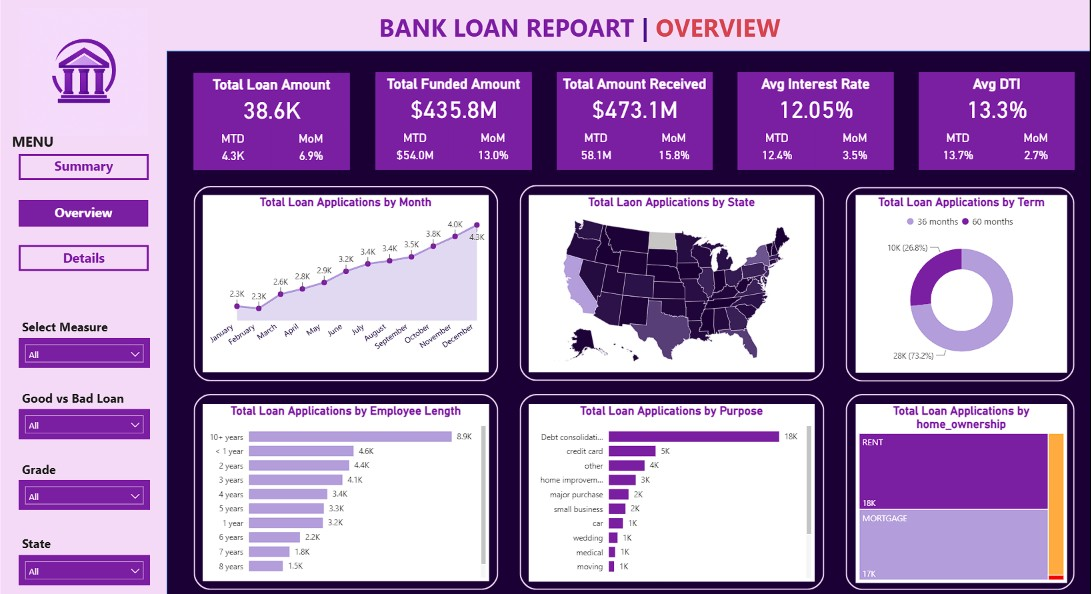

What the dashboard file says about the page in this screenshot:
{"tool":"powerbi","page":{"name":"Overview","canvas":[1680,920],"ordinal":1},"visuals":[{"type":"shape","box":[258.6,81.4,1422,837],"z":0,"group":"g26"},{"type":"shape","box":[1137,113.2,240,151],"z":0,"group":"g17"},{"type":"shape","box":[1415,113.2,240,151],"z":0,"group":"g20"},{"type":"group","id":"g1","title":"Funded Amount","box":[580,113.5,240,151],"z":0,"group":"g4"},{"type":"shape","box":[580,113.5,240,151],"z":0,"group":"g1"},{"type":"card","title":"Total Funded Amount","fields":{"Values":["financial_loan_bank.Total Funded Amount"]},"box":[580.1,113.5,240,75.5],"z":0,"group":"g5"},{"type":"shape","box":[858.8,113.5,240,151],"z":0,"group":"g6"},{"type":"card","title":"Total Amount Received","fields":{"Values":["financial_loan_bank.Total Amount Received"]},"box":[858.8,113.5,239.9,75.8],"z":0,"group":"g7"},{"type":"card","title":"Avg Interest Rate","fields":{"Values":["financial_loan_bank.Avg Interest Rate"]},"box":[1137.4,113.6,240,75.8],"z":0,"group":"g8"},{"type":"card","title":"Avg DTI","fields":{"Values":["financial_loan_bank.Avg DTI"]},"box":[1415,113.9,240,75.5],"z":0,"group":"g9"},{"type":"shape","box":[300,114.7,240,149.2],"z":0,"group":"g14"},{"type":"card","title":"Total Loan Amount","fields":{"Values":["financial_loan_bank.Total Loan Applications"]},"box":[300,114.7,240,75],"z":0,"group":"g10"},{"type":"textbox","title":"Menu","box":[15,200,103,41],"z":0,"group":"g24"},{"type":"group","id":"g2","title":"All Charts","box":[300,286.5,1355,623.7],"z":0,"group":"g25"},{"type":"shape","title":"Background","box":[801.9,286.5,468.6,301.4],"z":0,"group":"g12"},{"type":"group","id":"g3","title":"Line Chart of Total Loan Applications by Month","box":[300,287.5,468.4,300.4],"z":0,"group":"g2"},{"type":"shape","title":"Background","box":[300,287.5,468.4,300.4],"z":0,"group":"g3"},{"type":"shape","title":"Background","box":[1302.8,288.8,352,299.4],"z":0,"group":"g23"},{"type":"actionButton","title":"Details Button","box":[30,380,200,40],"z":0,"group":"g11"},{"type":"textbox","box":[30,492,156.7,36.7],"z":0,"group":"g21"},{"type":"shape","title":"Background","box":[300.2,608.5,468.6,301.4],"z":0,"group":"g18"},{"type":"shape","title":"Background","box":[801.9,608.5,468.6,301.4],"z":0,"group":"g15"},{"type":"shape","title":"Background","box":[1302.8,608.6,352.2,301.6],"z":0,"group":"g22"},{"type":"slicer","fields":{"Values":["financial_loan_bank.Good vs Bad Loan"]},"box":[30,631.2,201.7,46.8],"z":0,"group":"g13"},{"type":"textbox","box":[30,712,70,34.1],"z":0,"group":"g16"},{"type":"textbox","box":[30,826.7,56.7,36.7],"z":0,"group":"g19"},{"type":"group","id":"g4","title":"5 KPI","box":[300,113.2,1355,151],"z":1000,"group":"g25"},{"type":"group","id":"g5","title":"Group 4","box":[580,113.5,240.1,151.5],"z":1000,"group":"g1"},{"type":"group","id":"g6","title":"Amount Received","box":[858.8,113.5,240,151],"z":1000,"group":"g4"},{"type":"group","id":"g7","title":"Group 7","box":[858.8,113.5,240,151],"z":1000,"group":"g6"},{"type":"group","id":"g8","title":"Group 7","box":[1137.4,113.6,240,151],"z":1000,"group":"g17"},{"type":"group","id":"g9","title":"Group 3","box":[1415,113.9,240,151],"z":1000,"group":"g20"},{"type":"group","id":"g10","title":"Group 1","box":[300,114.7,240,149.2],"z":1000,"group":"g14"},{"type":"card","title":"MTD","fields":{"Values":["financial_loan_bank.MTD Amount Received"]},"box":[859,188.8,120.2,75.7],"z":1000,"group":"g7"},{"type":"card","title":"MTD","fields":{"Values":["financial_loan_bank.MTD Avg Interest Rate"]},"box":[1137.6,188.9,120.2,75.7],"z":1000,"group":"g8"},{"type":"card","title":"MTD","fields":{"Values":["financial_loan_bank.MTD Funded Amount"]},"box":[580,189.2,120.3,75.7],"z":1000,"group":"g5"},{"type":"card","title":"MTD","fields":{"Values":["financial_loan_bank.MTD Avg DTI"]},"box":[1415.2,189.2,120,75.7],"z":1000,"group":"g9"},{"type":"card","title":"MTD","fields":{"Values":["financial_loan_bank.MTD Loan Applications"]},"box":[300,189.7,120,74.3],"z":1000,"group":"g10"},{"type":"group","id":"g11","title":"Buttons","box":[30,240,200,180],"z":1000,"group":"g24"},{"type":"group","id":"g12","title":"Map of Total Laon Applications by State","box":[801.9,286.5,468.6,301.4],"z":1000,"group":"g2"},{"type":"lineChart","title":"Total Loan Applications by Month","fields":{"Y":["financial_loan_bank.Total Loan Applications"],"Category":["DateTable.Month"]},"box":[314.1,301.3,440,272.8],"z":1000,"group":"g3"},{"type":"shapeMap","title":"Total Laon Applications by State","fields":{"Category":["financial_loan_bank.address_state"],"Value":["financial_loan_bank.Total Funded Amount"]},"box":[815.7,301.3,440,272.8],"z":1000,"group":"g12"},{"type":"donutChart","title":"Total Loan Applications by Term","fields":{"Category":["financial_loan_bank.term"],"Y":["financial_loan_bank.Total Loan Applications"]},"box":[1317.7,301.8,325.5,273.5],"z":1000,"group":"g23"},{"type":"actionButton","title":"Overview Button","box":[30,310,199.2,40.6],"z":1000,"group":"g11"},{"type":"slicer","fields":{"Values":["Select Measure.Select Measure"]},"box":[30,523.5,201.7,46],"z":1000,"group":"g21"},{"type":"group","id":"g13","title":"Good vs bad loan","box":[30,601,201.7,77],"z":1000,"group":"g27"},{"type":"textbox","box":[30,601,168.3,34.5],"z":1000,"group":"g13"},{"type":"clusteredBarChart","title":"Total Loan Applications by Employee Length","fields":{"Category":["financial_loan_bank.emp_length"],"Y":["financial_loan_bank.Total Loan Applications"]},"box":[313.9,623.6,440.5,272.5],"z":1000,"group":"g18"},{"type":"clusteredBarChart","title":"Total Loan Applications by Purpose","fields":{"Y":["financial_loan_bank.Total Loan Applications"],"Category":["financial_loan_bank.purpose"]},"box":[815.3,623.6,439.9,273.3],"z":1000,"group":"g15"},{"type":"treemap","fields":{"Group":["financial_loan_bank.home_ownership"],"Values":["financial_loan_bank.Total Loan Applications"]},"box":[1318.3,623.6,325,275.6],"z":1000,"group":"g22"},{"type":"slicer","fields":{"Values":["financial_loan_bank.grade"]},"box":[30,742,201.7,46],"z":1000,"group":"g16"},{"type":"slicer","fields":{"Values":["financial_loan_bank.address_state"]},"box":[30,857.5,201.7,46.7],"z":1000,"group":"g19"},{"type":"group","id":"g14","title":"Loan Amount","box":[300,114.7,240,151],"z":2000,"group":"g4"},{"type":"card","title":"MoM","fields":{"Values":["financial_loan_bank.MoM Amount Received"]},"box":[978.6,188.8,120.2,75.7],"z":2000,"group":"g7"},{"type":"card","title":"MoM","fields":{"Values":["financial_loan_bank.MoM Avg Interest Rate"]},"box":[1257.2,188.9,120.2,75.7],"z":2000,"group":"g8"},{"type":"card","title":"MoM","fields":{"Values":["financial_loan_bank.MoM Funded Amount"]},"box":[699.7,189.2,120.3,75.7],"z":2000,"group":"g5"},{"type":"card","title":"MoM","fields":{"Values":["financial_loan_bank.MoM Avg DTI"]},"box":[1534.7,189.2,120,75.7],"z":2000,"group":"g9"},{"type":"card","title":"MoM","fields":{"Values":["financial_loan_bank.MoM Loan Applications"]},"box":[420,189.7,120,74.3],"z":2000,"group":"g10"},{"type":"actionButton","title":"Summary Button","box":[30,240,200,40],"z":2000,"group":"g11"},{"type":"group","id":"g15","title":"Bar Chart of Total Loan Applications by Purpose","box":[801.9,608.5,468.6,301.4],"z":2000,"group":"g2"},{"type":"group","id":"g16","title":"Grade","box":[30,712,201.7,76],"z":2000,"group":"g27"},{"type":"group","id":"g17","title":"Avg Interest","box":[1137,113.2,240,151],"z":3000,"group":"g4"},{"type":"group","id":"g18","title":"Bar Chart of Total Loan Applications by Employee Length","box":[300.2,608.5,468.6,301.4],"z":3000,"group":"g2"},{"type":"group","id":"g19","title":"State","box":[30,826.7,201.7,77.5],"z":3000,"group":"g27"},{"type":"group","id":"g20","title":"Avg DTI","box":[1415,113.2,240,152.7],"z":4000,"group":"g4"},{"type":"group","id":"g21","title":"Select Measure","box":[30,492,201.7,77.5],"z":4000,"group":"g27"},{"type":"group","id":"g22","title":"Treemap Chart of Total Loan Applications by home_ownership","box":[1302.8,608.6,352.2,301.6],"z":4000,"group":"g2"},{"type":"textbox","title":"Title of page","box":[573,13.6,640.7,66.1],"z":5000,"group":"g27"},{"type":"group","id":"g23","title":"Pie Chart of Total Loan Applications by Term","box":[1302.8,288.8,352,299.4],"z":5000,"group":"g2"},{"type":"image","title":"Logo","box":[32.5,0,197.1,227.6],"z":6000,"group":"g27"},{"type":"group","id":"g24","title":"Buttons and title of Buttons","box":[15,200,215,220],"z":7000,"group":"g27"},{"type":"group","id":"g25","title":"KPI and Chart","box":[300,113.2,1355,797],"z":8000,"group":"g26"},{"type":"group","id":"g26","title":"Background of the KPI and chart","box":[258.6,81.4,1422,837],"z":8001,"group":"g27"},{"type":"group","id":"g27","title":"Overview Page","box":[15,0,1665.6,918.4],"z":8002}]}

Visuals, with their boxes in screenshot pixels (x1, y1, x2, y2), scaled from the page's 1680x920 canvas onto the 1091x594 screenshot:
shape: bbox=(168, 53, 1090, 593)
shape: bbox=(738, 73, 894, 171)
shape: bbox=(919, 73, 1075, 171)
"Funded Amount" group: bbox=(377, 73, 533, 171)
shape: bbox=(377, 73, 533, 171)
"Total Funded Amount" card: bbox=(377, 73, 533, 122)
shape: bbox=(558, 73, 714, 171)
"Total Amount Received" card: bbox=(558, 73, 714, 122)
"Avg Interest Rate" card: bbox=(739, 73, 894, 122)
"Avg DTI" card: bbox=(919, 74, 1075, 122)
shape: bbox=(195, 74, 351, 170)
"Total Loan Amount" card: bbox=(195, 74, 351, 122)
"Menu" textbox: bbox=(10, 129, 77, 156)
"All Charts" group: bbox=(195, 185, 1075, 588)
"Background" shape: bbox=(521, 185, 825, 380)
"Line Chart of Total Loan Applications by Month" group: bbox=(195, 186, 499, 380)
"Background" shape: bbox=(195, 186, 499, 380)
"Background" shape: bbox=(846, 186, 1075, 380)
"Details Button" actionButton: bbox=(19, 245, 149, 271)
textbox: bbox=(19, 318, 121, 341)
"Background" shape: bbox=(195, 393, 499, 587)
"Background" shape: bbox=(521, 393, 825, 587)
"Background" shape: bbox=(846, 393, 1075, 588)
slicer - financial_loan_bank.Good vs Bad Loan: bbox=(19, 408, 150, 438)
textbox: bbox=(19, 460, 65, 482)
textbox: bbox=(19, 534, 56, 557)
"5 KPI" group: bbox=(195, 73, 1075, 171)
"Group 4" group: bbox=(377, 73, 533, 171)
"Amount Received" group: bbox=(558, 73, 714, 171)
"Group 7" group: bbox=(558, 73, 714, 171)
"Group 7" group: bbox=(739, 73, 894, 171)
"Group 3" group: bbox=(919, 74, 1075, 171)
"Group 1" group: bbox=(195, 74, 351, 170)
"MTD" card: bbox=(558, 122, 636, 171)
"MTD" card: bbox=(739, 122, 817, 171)
"MTD" card: bbox=(377, 122, 455, 171)
"MTD" card: bbox=(919, 122, 997, 171)
"MTD" card: bbox=(195, 122, 273, 170)
"Buttons" group: bbox=(19, 155, 149, 271)
"Map of Total Laon Applications by State" group: bbox=(521, 185, 825, 380)
"Total Loan Applications by Month" lineChart: bbox=(204, 195, 490, 371)
"Total Laon Applications by State" shapeMap: bbox=(530, 195, 815, 371)
"Total Loan Applications by Term" donutChart: bbox=(856, 195, 1067, 371)
"Overview Button" actionButton: bbox=(19, 200, 149, 226)
slicer - Select Measure.Select Measure: bbox=(19, 338, 150, 368)
"Good vs bad loan" group: bbox=(19, 388, 150, 438)
textbox: bbox=(19, 388, 129, 410)
"Total Loan Applications by Employee Length" clusteredBarChart: bbox=(204, 403, 490, 579)
"Total Loan Applications by Purpose" clusteredBarChart: bbox=(529, 403, 815, 579)
treemap - financial_loan_bank.home_ownership x financial_loan_bank.Total Loan Applications: bbox=(856, 403, 1067, 581)
slicer - financial_loan_bank.grade: bbox=(19, 479, 150, 509)
slicer - financial_loan_bank.address_state: bbox=(19, 554, 150, 584)
"Loan Amount" group: bbox=(195, 74, 351, 172)
"MoM" card: bbox=(636, 122, 714, 171)
"MoM" card: bbox=(816, 122, 894, 171)
"MoM" card: bbox=(454, 122, 533, 171)
"MoM" card: bbox=(997, 122, 1075, 171)
"MoM" card: bbox=(273, 122, 351, 170)
"Summary Button" actionButton: bbox=(19, 155, 149, 181)
"Bar Chart of Total Loan Applications by Purpose" group: bbox=(521, 393, 825, 587)
"Grade" group: bbox=(19, 460, 150, 509)
"Avg Interest" group: bbox=(738, 73, 894, 171)
"Bar Chart of Total Loan Applications by Employee Length" group: bbox=(195, 393, 499, 587)
"State" group: bbox=(19, 534, 150, 584)
"Avg DTI" group: bbox=(919, 73, 1075, 172)
"Select Measure" group: bbox=(19, 318, 150, 368)
"Treemap Chart of Total Loan Applications by home_ownership" group: bbox=(846, 393, 1075, 588)
"Title of page" textbox: bbox=(372, 9, 788, 51)
"Pie Chart of Total Loan Applications by Term" group: bbox=(846, 186, 1075, 380)
"Logo" image: bbox=(21, 0, 149, 147)
"Buttons and title of Buttons" group: bbox=(10, 129, 149, 271)
"KPI and Chart" group: bbox=(195, 73, 1075, 588)
"Background of the KPI and chart" group: bbox=(168, 53, 1090, 593)
"Overview Page" group: bbox=(10, 0, 1090, 593)
